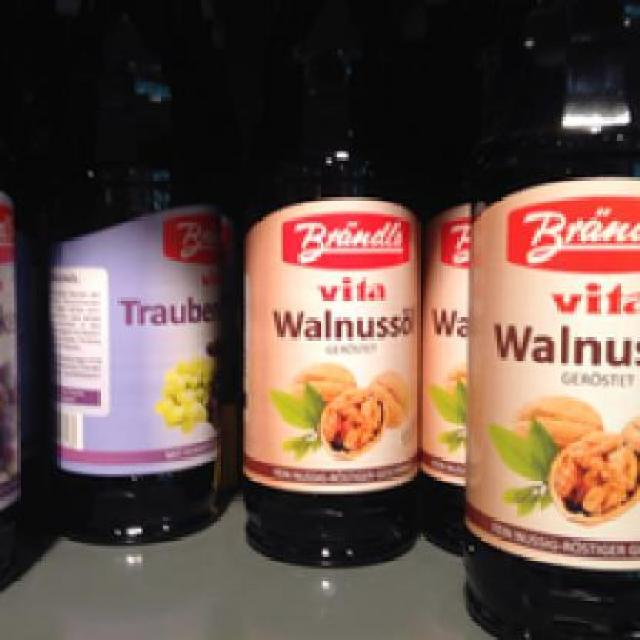Oil: (465, 0, 638, 626), (240, 0, 423, 563), (31, 0, 220, 543)
